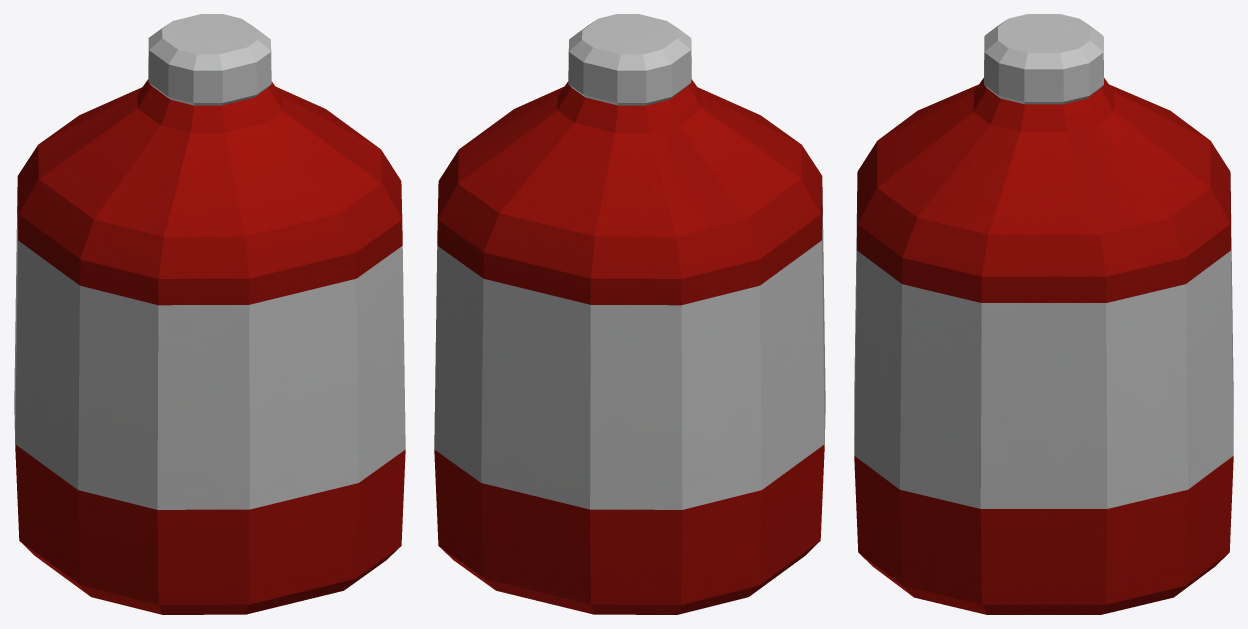
Rendered from small_bottle_2.glb.
The picture shows the model from 3 angles, left to right: view 1: azimuth 30°, elevation 25°; view 2: azimuth 150°, elevation 25°; view 3: azimuth 270°, elevation 25°; orthographic projection.
Parts seen in each view (by area): view 1: small_bottle_2; view 2: small_bottle_2; view 3: small_bottle_2.
Part boxes in pixels (bbox=[...]): small_bottle_2: bbox=[14, 14, 405, 614]; small_bottle_2: bbox=[434, 14, 825, 614]; small_bottle_2: bbox=[854, 14, 1233, 614].
Bounding box in the file's own units: 0.1079 × 0.1597 × 0.1079.
Materials: 1 (1 with a texture image).
